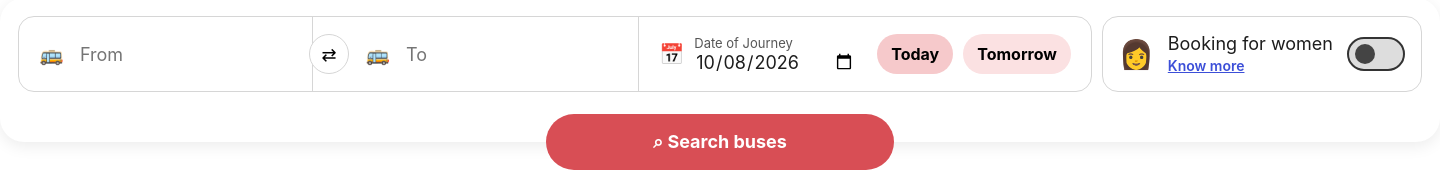
Test case: SearchCard › clears existing errors when swap is clicked
Step 1. Click the button "⌕ Search buses" → (720, 142), box [546, 114, 894, 170]
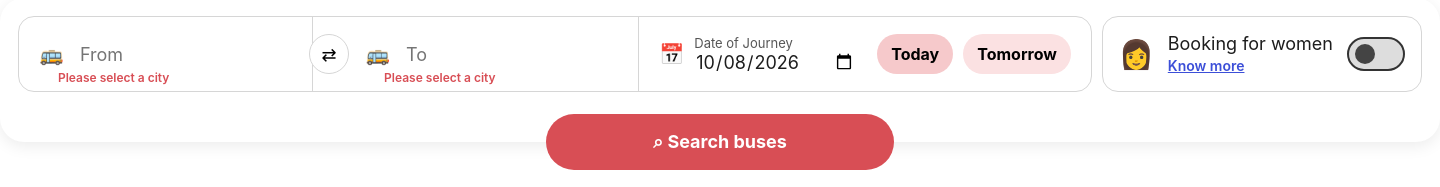
Expected: the number of messages is 2, [58, 70, 170, 84]; [384, 70, 496, 84]
Step 2. Click the button named "Swap From and To" → (329, 54), box [309, 34, 349, 74]
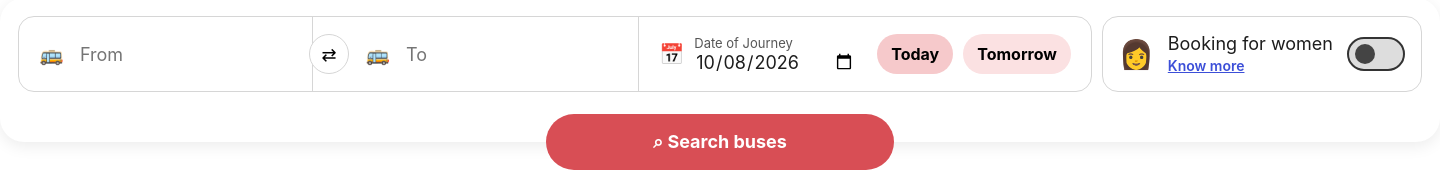
Expected: the message "Please select a city" is gone
